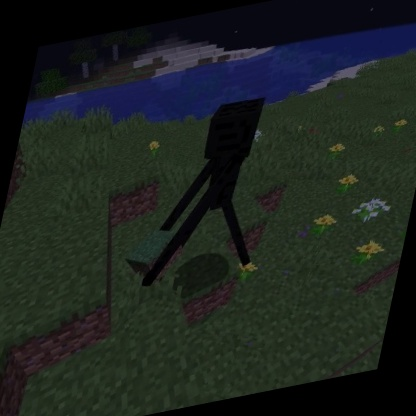enderman: (125, 88, 290, 293)
